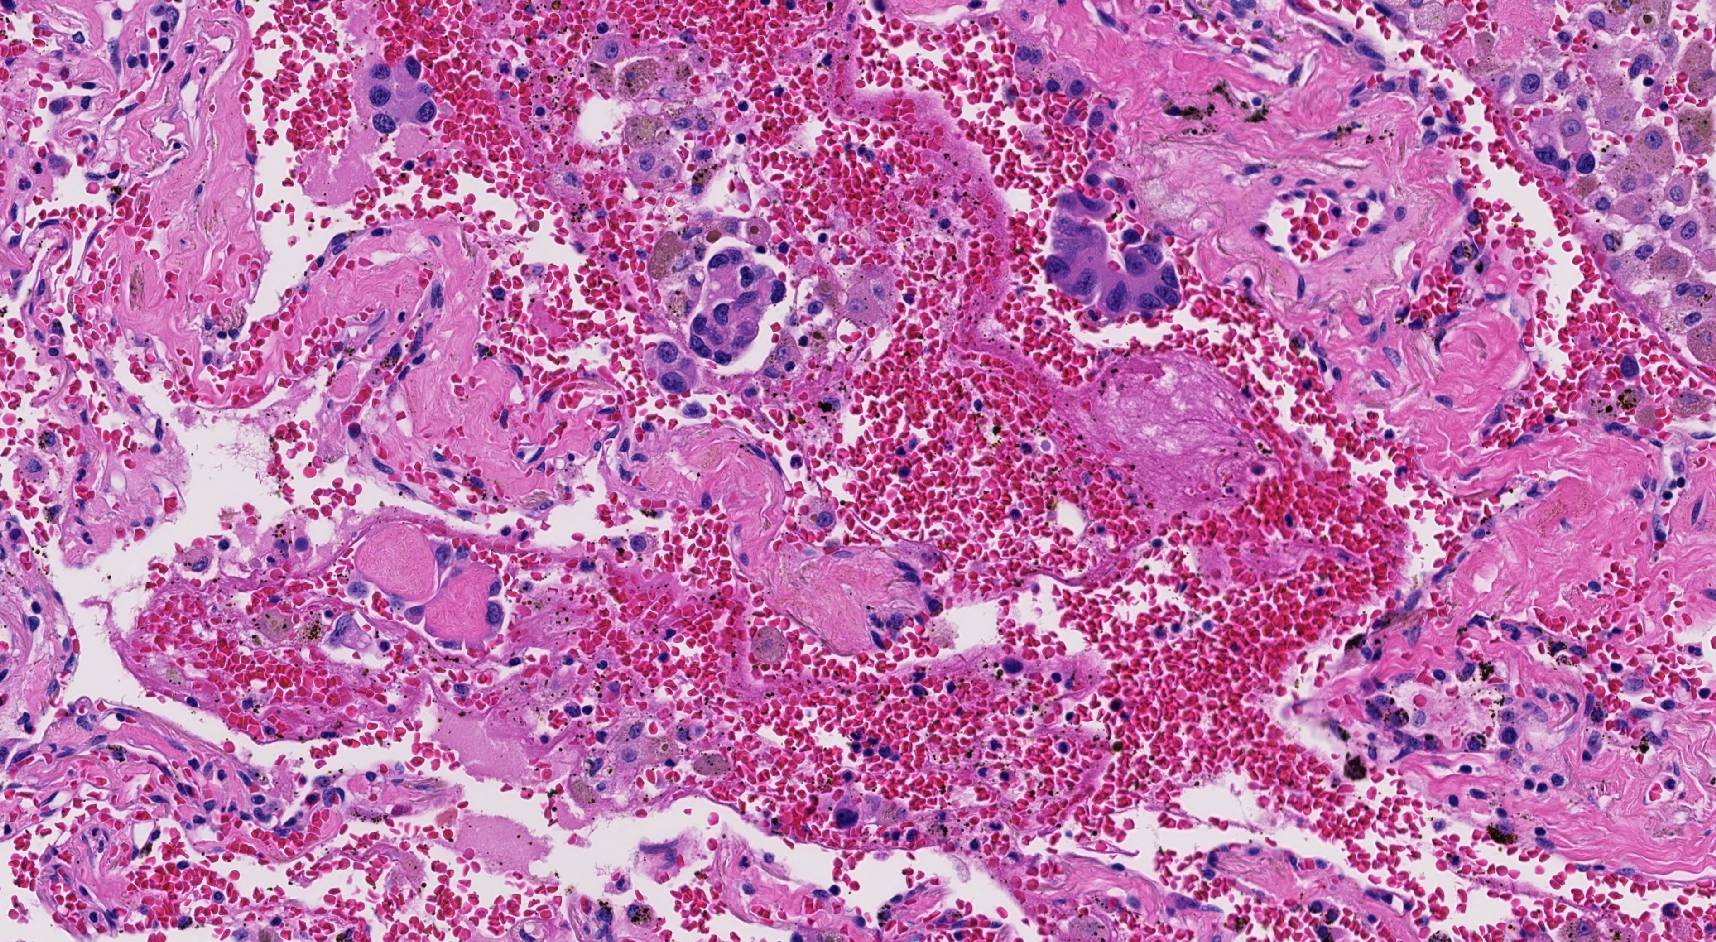stas: (1040, 189, 1184, 321), (689, 245, 785, 365), (364, 55, 436, 134), (645, 340, 695, 392)
